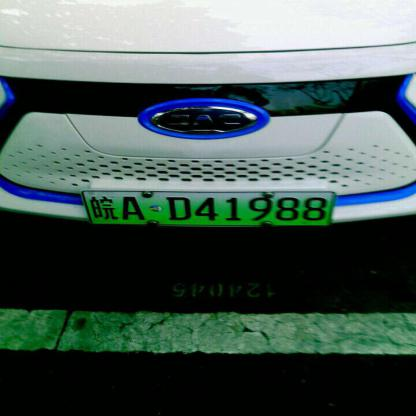lp: (84, 190, 334, 226)
